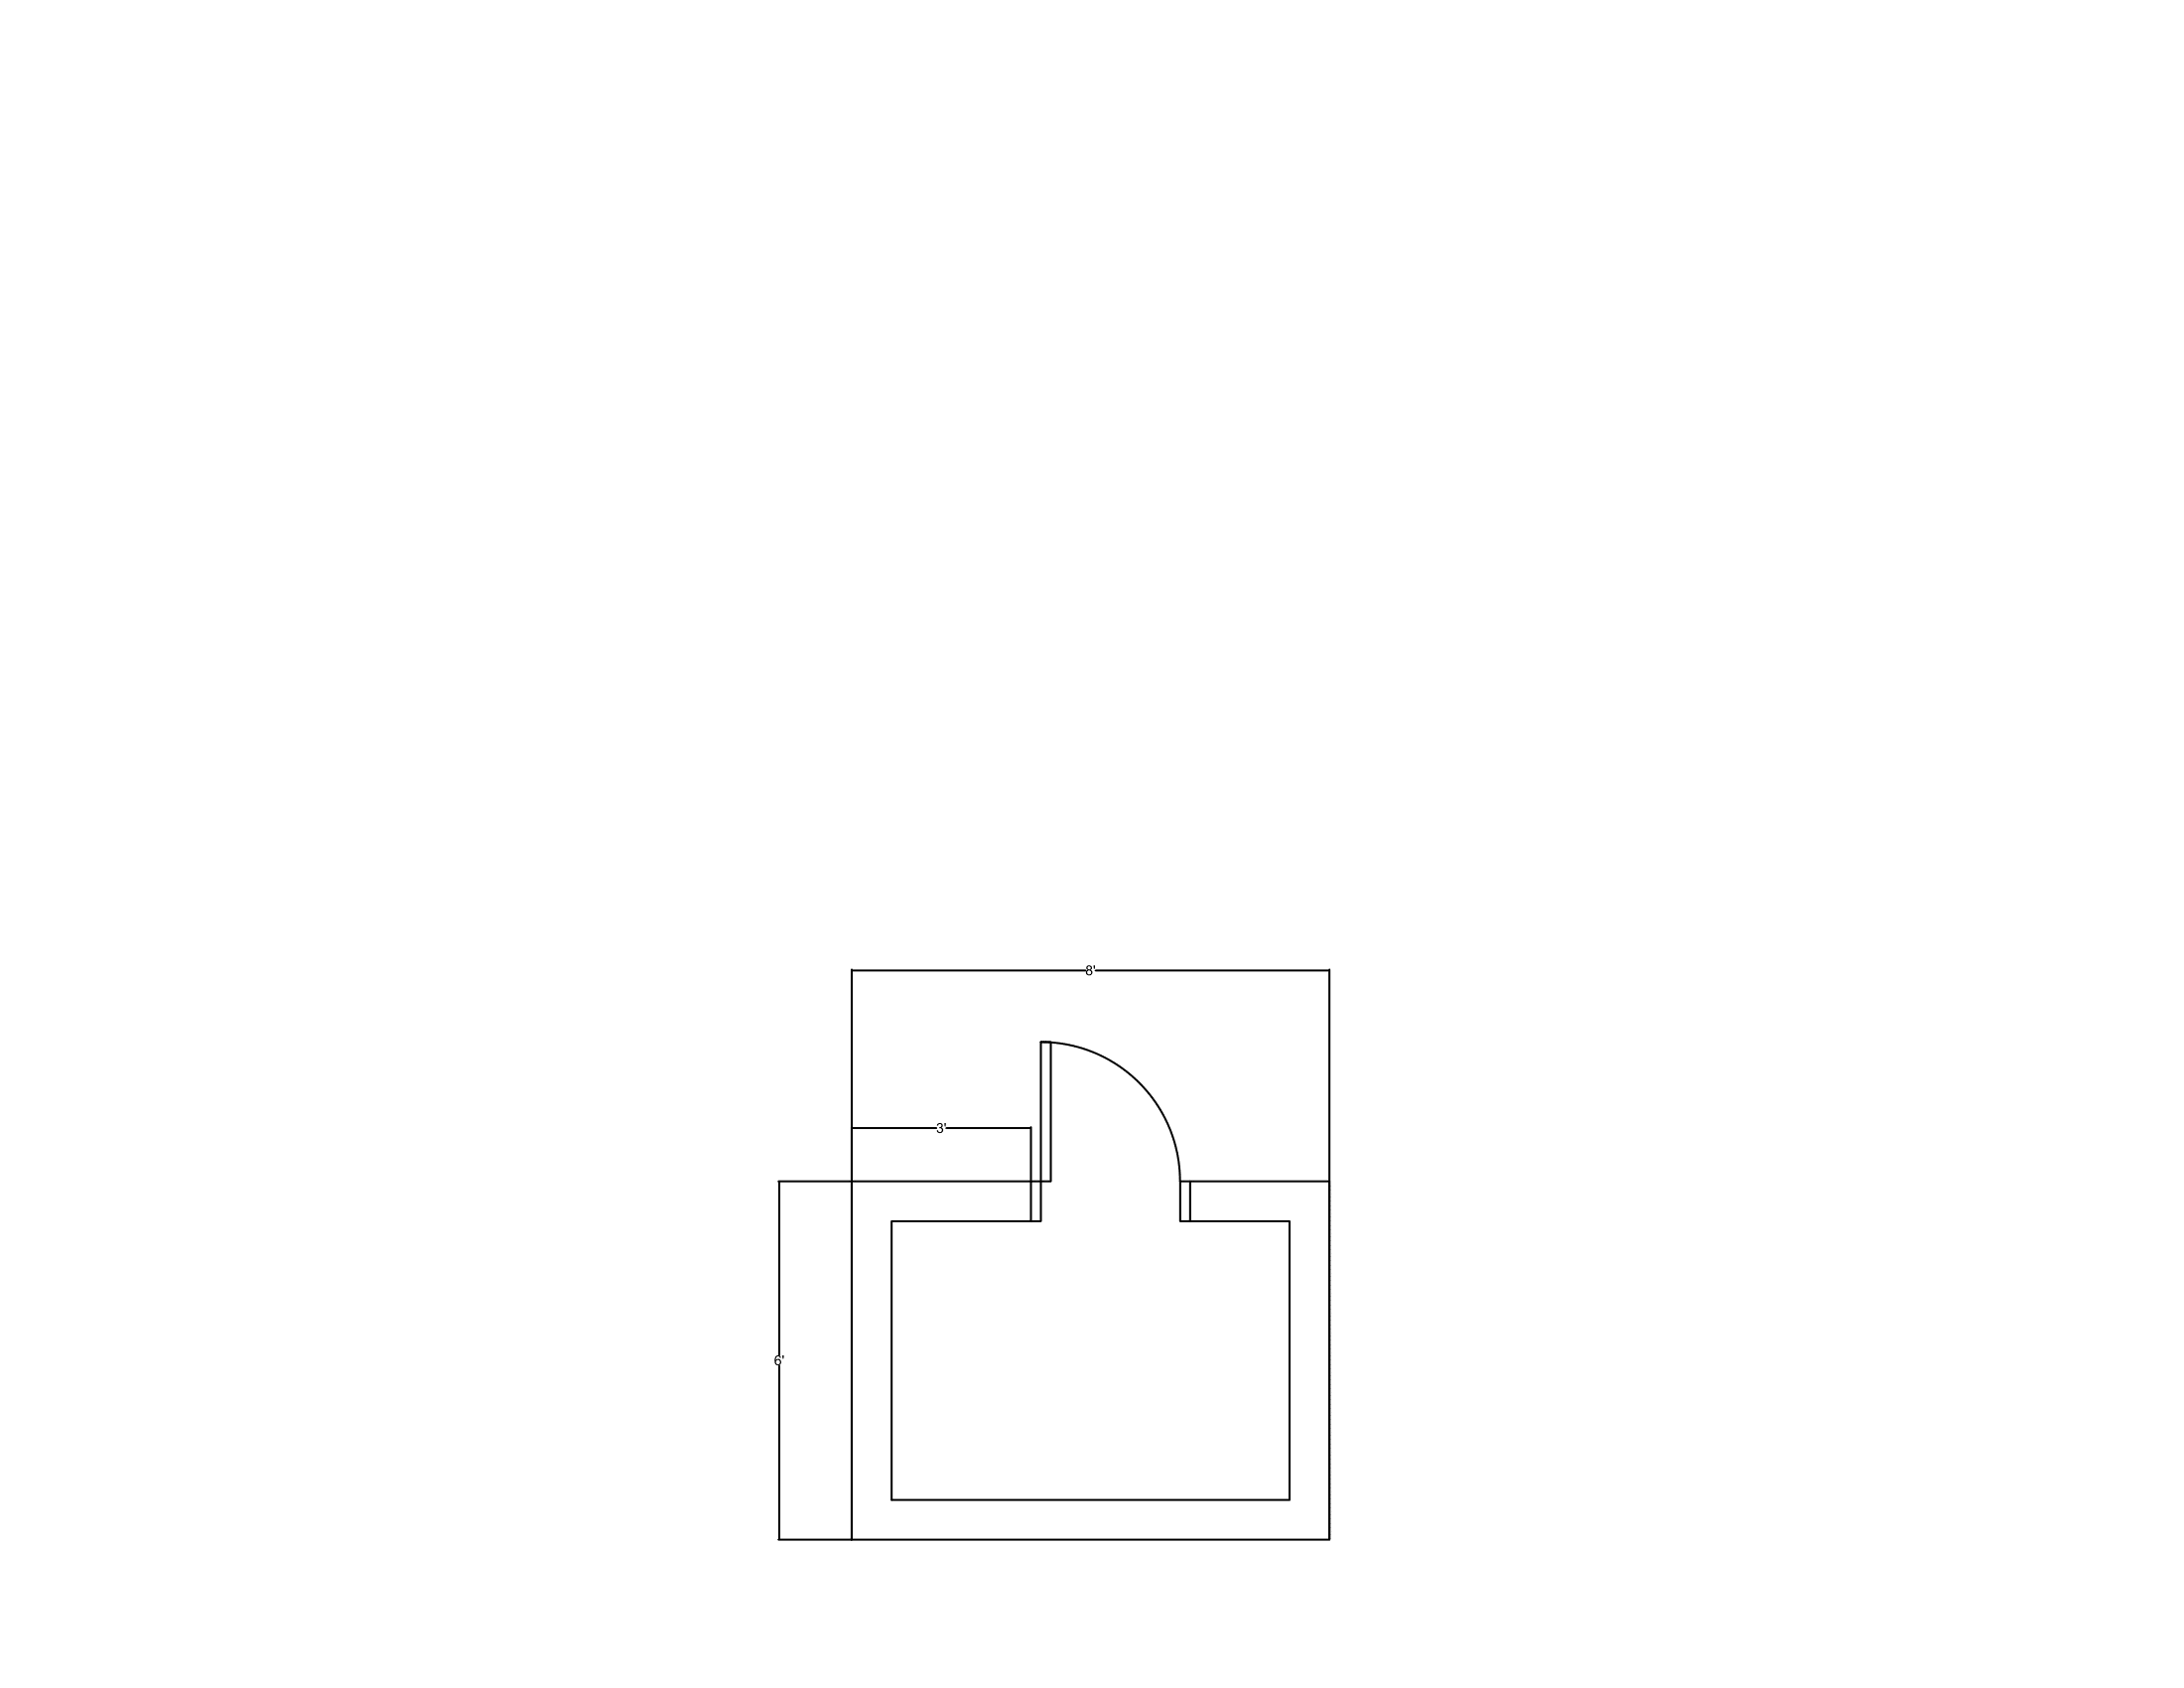door_left: (1025, 1034, 1197, 1229)
measurement_marker: (842, 957, 1342, 982), (768, 1172, 792, 1550), (842, 1119, 1041, 1138)
wall_no_texture: (842, 1493, 1340, 1551), (840, 1168, 901, 1550), (1282, 1174, 1338, 1550), (844, 1170, 1041, 1227), (1186, 1172, 1337, 1227)
